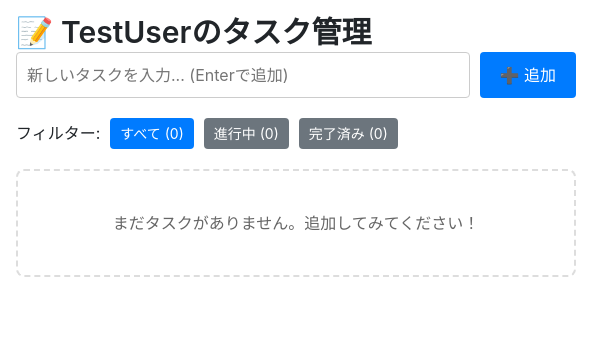
Scenario: Bulk Deletion Integration Tests (US1) › 一括削除の受入シナリオ › AS-007: 完了タスクを作成するとクリアボタンが表示される
Type "完了予定タスク" into the field with placeholder "新しいタスクを入力... (Enterで追加)".
click(243, 74); type("完了予定タスク")  # box [16,52,470,98]
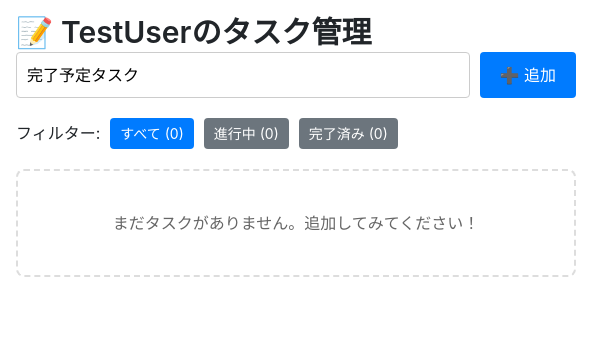
Click the button "➕ 追加".
click(528, 74)  # box [480,52,576,98]
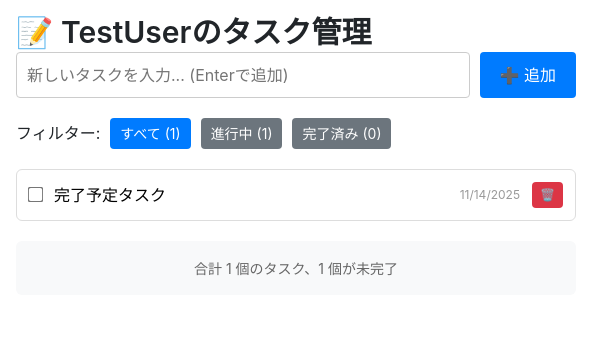
Expected: the button "完了タスクをクリア" is not shown
Expected: the text "完了予定タスク" is shown, [54,184,166,204]
タスクを完了状態にする
Click the checkbox.
click(36, 194)  # box [28,187,43,202]
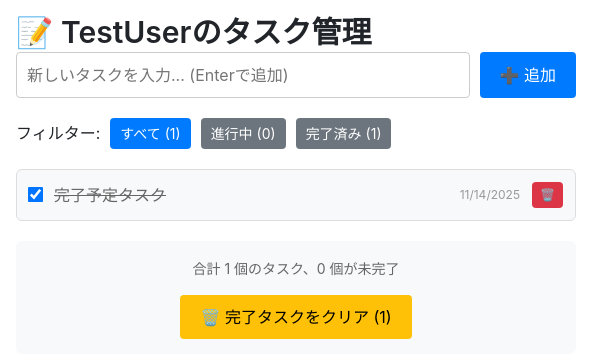
Expected: the checkbox is checked, [28,187,43,202]
Expected: the button "🗑️ 完了タスクをクリア (1)" is shown, [180,294,412,338]
